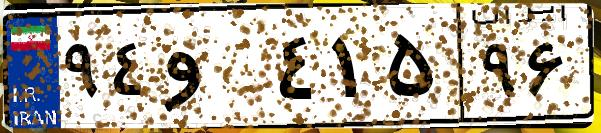1: (330, 28, 385, 110)
4: (270, 28, 330, 110), (110, 28, 158, 98)
5: (385, 28, 445, 110)
6: (525, 38, 570, 115)
9: (57, 26, 110, 100), (475, 38, 525, 113)
و: (158, 20, 270, 120)
